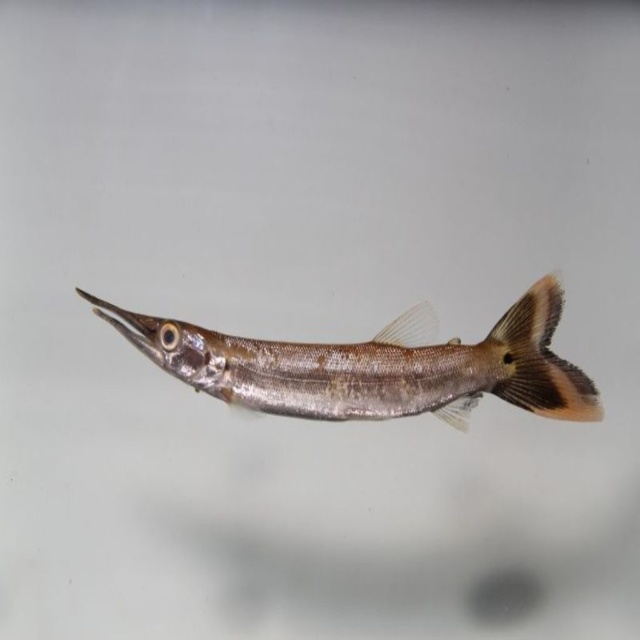Fish: (74, 267, 608, 437)
